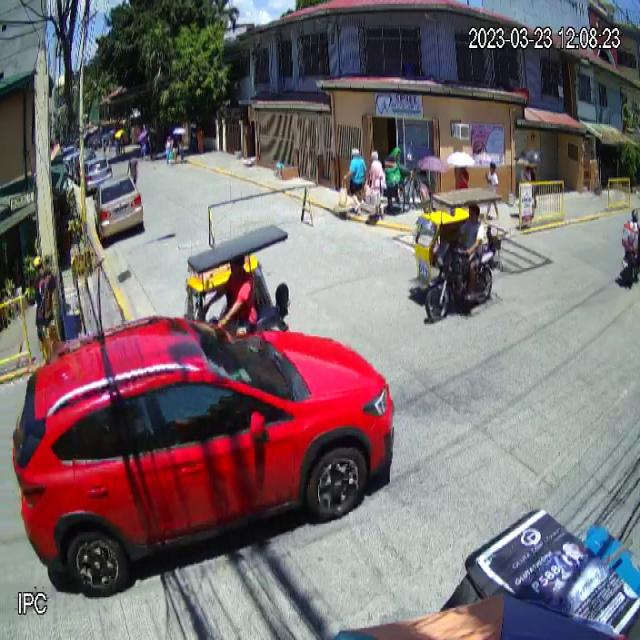Car: (10, 306, 398, 596), (94, 175, 144, 242)
Tricycle: (412, 183, 506, 322), (181, 219, 293, 332)
